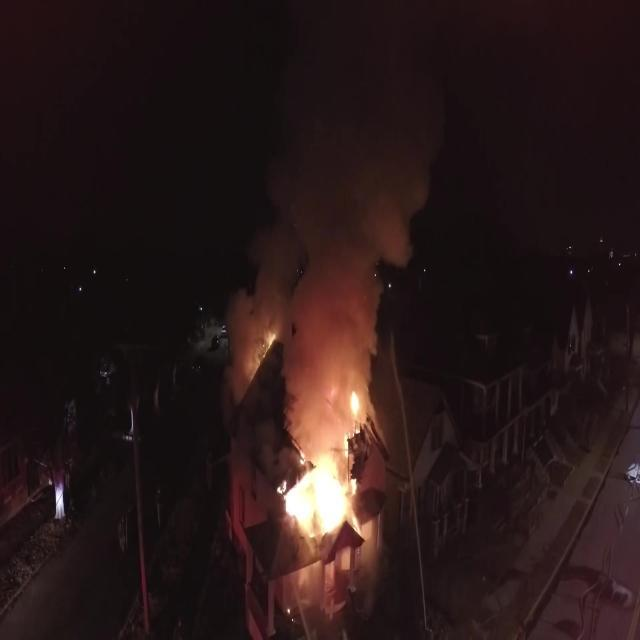Fire: (281, 446, 353, 542), (348, 382, 370, 423)
Smoke: (230, 0, 446, 441)
